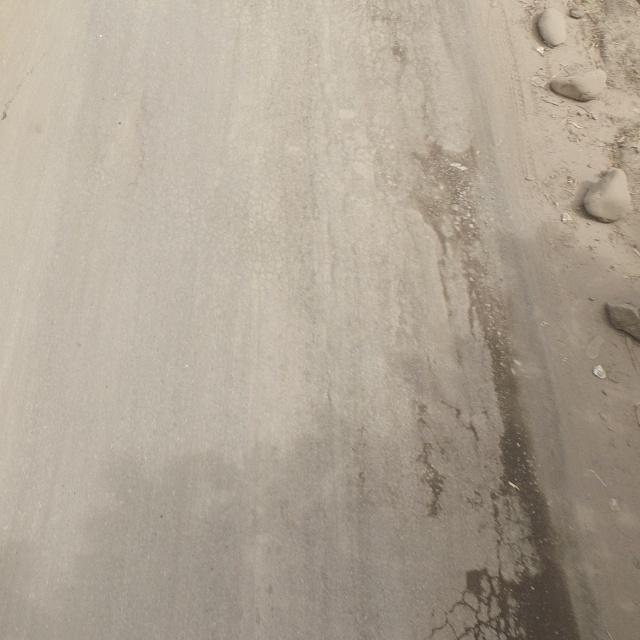GRIETA: (417, 442, 443, 516)
PIEL DE COCODRILO: (307, 0, 452, 196), (419, 482, 539, 639), (215, 184, 313, 320)
